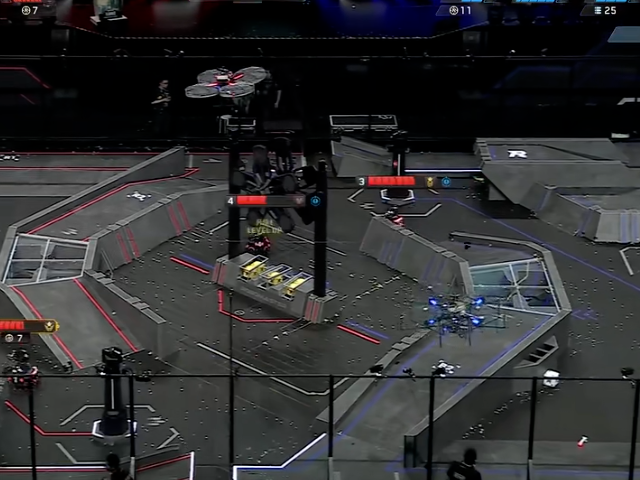rm: (398, 280, 508, 343), (3, 346, 43, 390), (245, 230, 271, 255), (381, 206, 409, 227)
